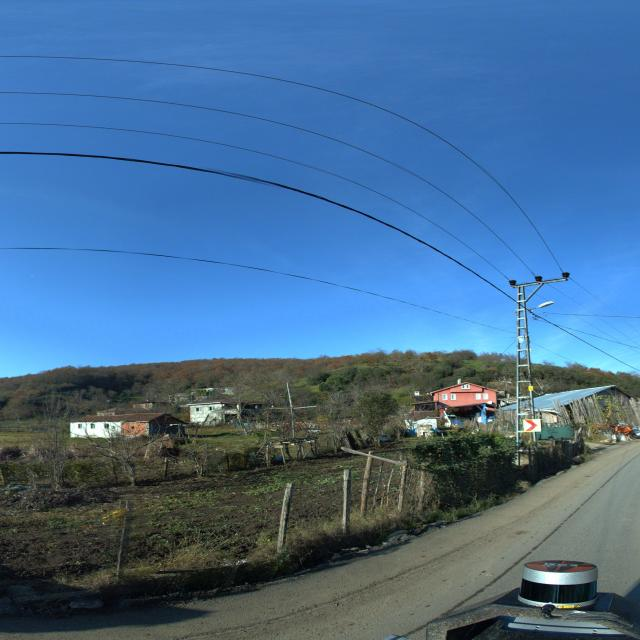Utility Pole Information Plate: (527, 385, 536, 392)
